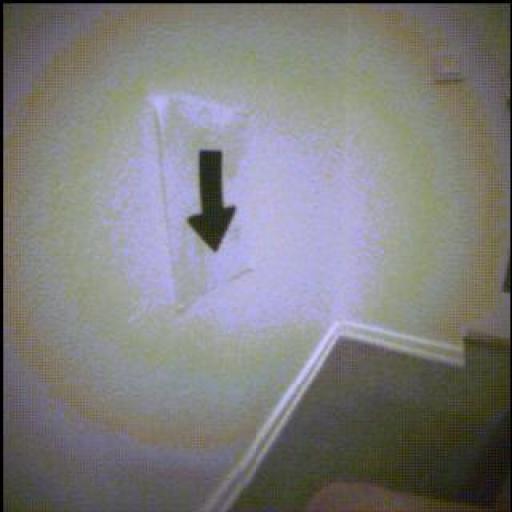arrow: (188, 152, 236, 253)
